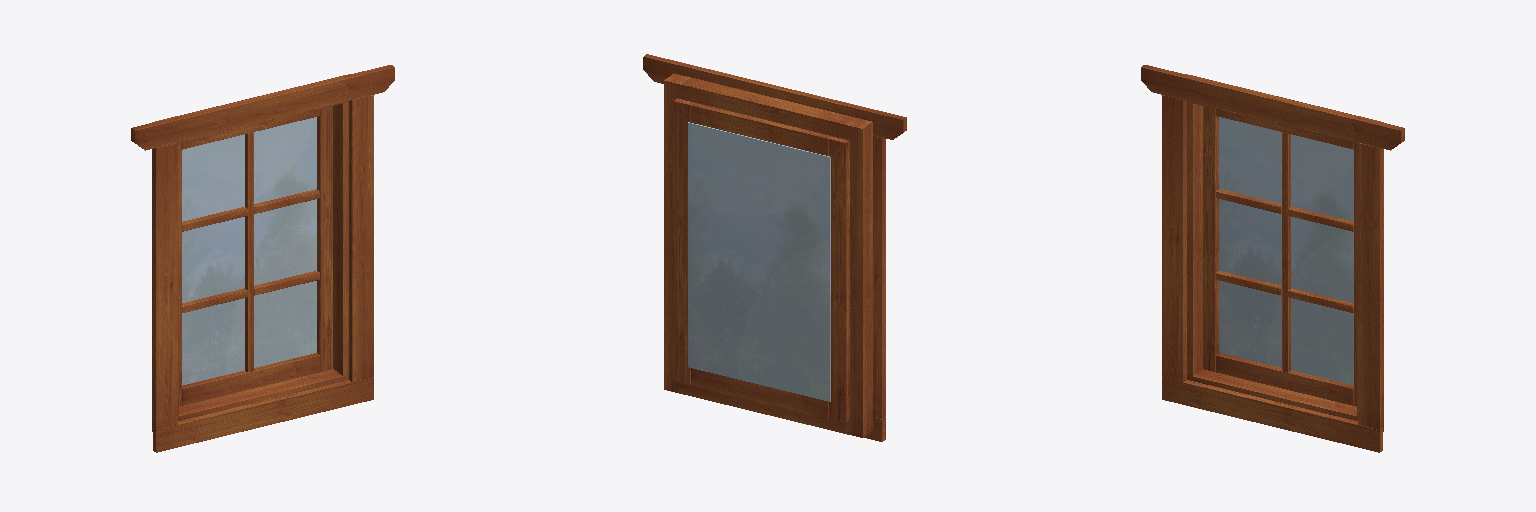
3 renders of one model, left to right at view 1: azimuth 30°, elevation 25°; view 2: azimuth 150°, elevation 25°; view 3: azimuth 330°, elevation 25°, orthographic.
Parts seen in each view (by area): view 1: glass, trim_left, trim_right, trim_top, trim_bottom, box_right, window_right, window_bottom, box_bottom, muttin_vertical, window_top, window_left (+5 smaller); view 2: glass, box_left, window_left, window_right, box_top, trim_top, trim_left, box_right, window_top, window_bottom, box_bottom; view 3: glass, trim_right, trim_left, trim_top, trim_bottom, box_left, window_left, window_bottom, box_bottom, muttin_vertical, window_top, window_right (+5 smaller).
Part boxes in pixels (bbox=[...]): glass: bbox=[182, 117, 316, 385]; trim_left: bbox=[153, 143, 177, 429]; trim_right: bbox=[349, 95, 373, 381]; trim_top: bbox=[131, 65, 394, 150]; trim_bottom: bbox=[153, 377, 373, 452]; box_right: bbox=[333, 74, 349, 379]; window_right: bbox=[317, 106, 332, 371]; window_bottom: bbox=[182, 353, 319, 405]; box_bottom: bbox=[179, 369, 348, 420]; muttin_vertical: bbox=[245, 132, 253, 372]; window_top: bbox=[182, 109, 319, 149]; window_left: bbox=[179, 143, 181, 406]; glass: bbox=[688, 122, 830, 401]; box_left: bbox=[845, 118, 872, 437]; window_left: bbox=[829, 136, 849, 422]; window_right: bbox=[673, 98, 693, 384]; box_top: bbox=[676, 78, 859, 141]; trim_top: bbox=[643, 54, 906, 139]; trim_left: bbox=[873, 135, 885, 419]; box_right: bbox=[664, 73, 690, 392]; window_top: bbox=[691, 103, 831, 155]; window_bottom: bbox=[691, 368, 828, 418]; box_bottom: bbox=[676, 382, 844, 433]; glass: bbox=[1219, 117, 1353, 385]; trim_right: bbox=[1358, 143, 1382, 429]; trim_left: bbox=[1162, 95, 1186, 381]; trim_top: bbox=[1141, 65, 1404, 150]; trim_bottom: bbox=[1162, 377, 1382, 452]; box_left: bbox=[1186, 74, 1202, 379]; window_left: bbox=[1203, 106, 1218, 371]; window_bottom: bbox=[1216, 353, 1353, 405]; box_bottom: bbox=[1187, 369, 1356, 420]; muttin_vertical: bbox=[1282, 132, 1290, 372]; window_top: bbox=[1216, 109, 1353, 149]; window_right: bbox=[1354, 143, 1356, 406].
Bounding box in the file's own units: 30.12 × 36.27 × 3.64.
7 materials, 7 textured.